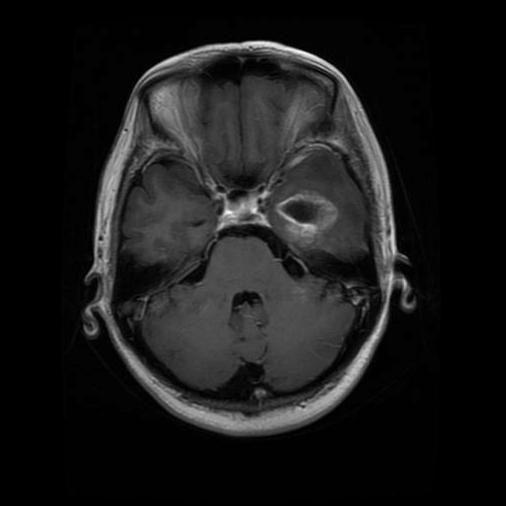Tumour-Glioma: (283, 185, 340, 240)
